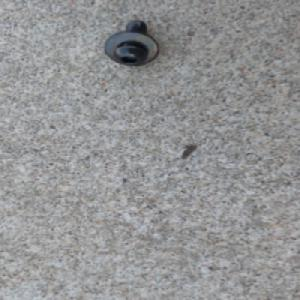BoltWasher: (102, 18, 162, 66)
